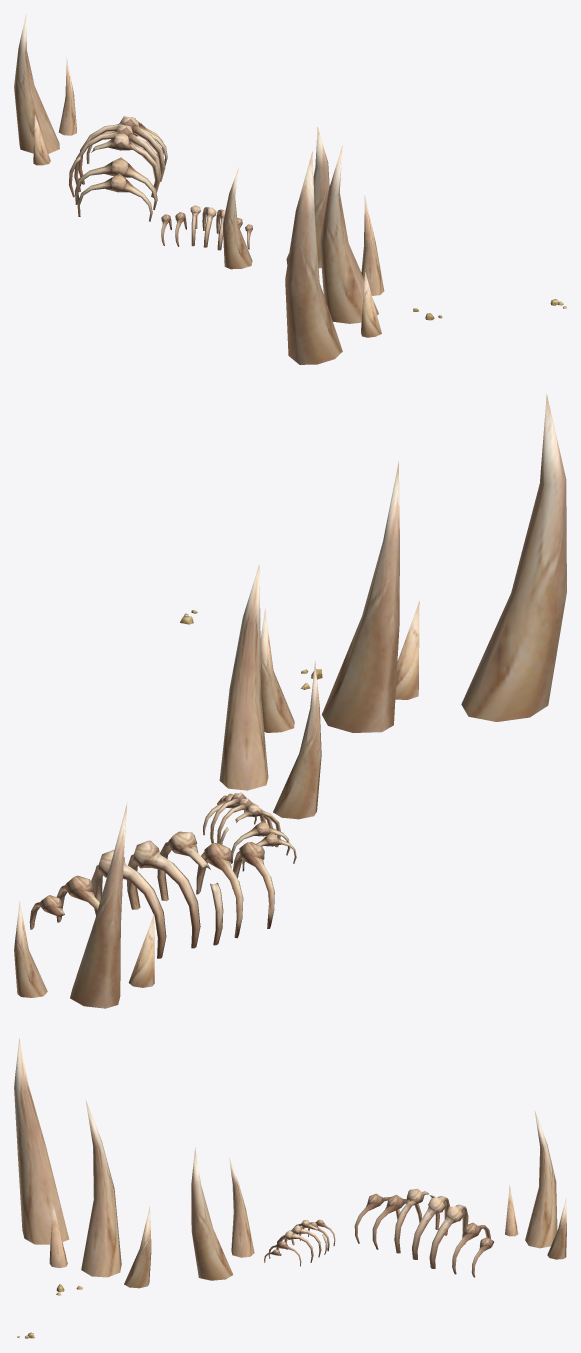
File: area_03_26.fbx
3 views of the same model, one above another, from view 1: azimuth 30°, elevation 25°; view 2: azimuth 150°, elevation 25°; view 3: azimuth 270°, elevation 25° (orthographic). The views are drawn at different scales.
Parts seen in each view (by area): view 1: area_03_26; view 2: area_03_26; view 3: area_03_26.
Boxes of the visible parts, <box> form: area_03_26: <box>14,14,566,364</box>; area_03_26: <box>14,394,566,1008</box>; area_03_26: <box>14,1038,566,1338</box>.
Bounding box in the file's own units: 10.07 × 7.84 × 19.95.
